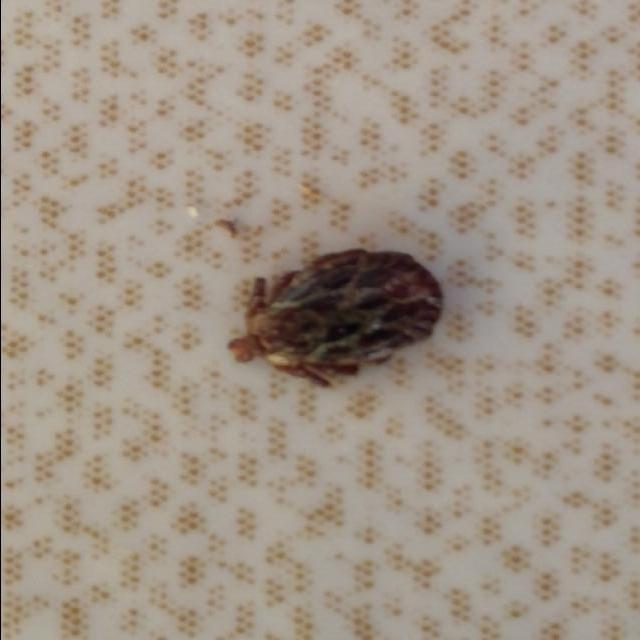Dermacentor Reticulatus-M: (227, 248, 440, 387)
